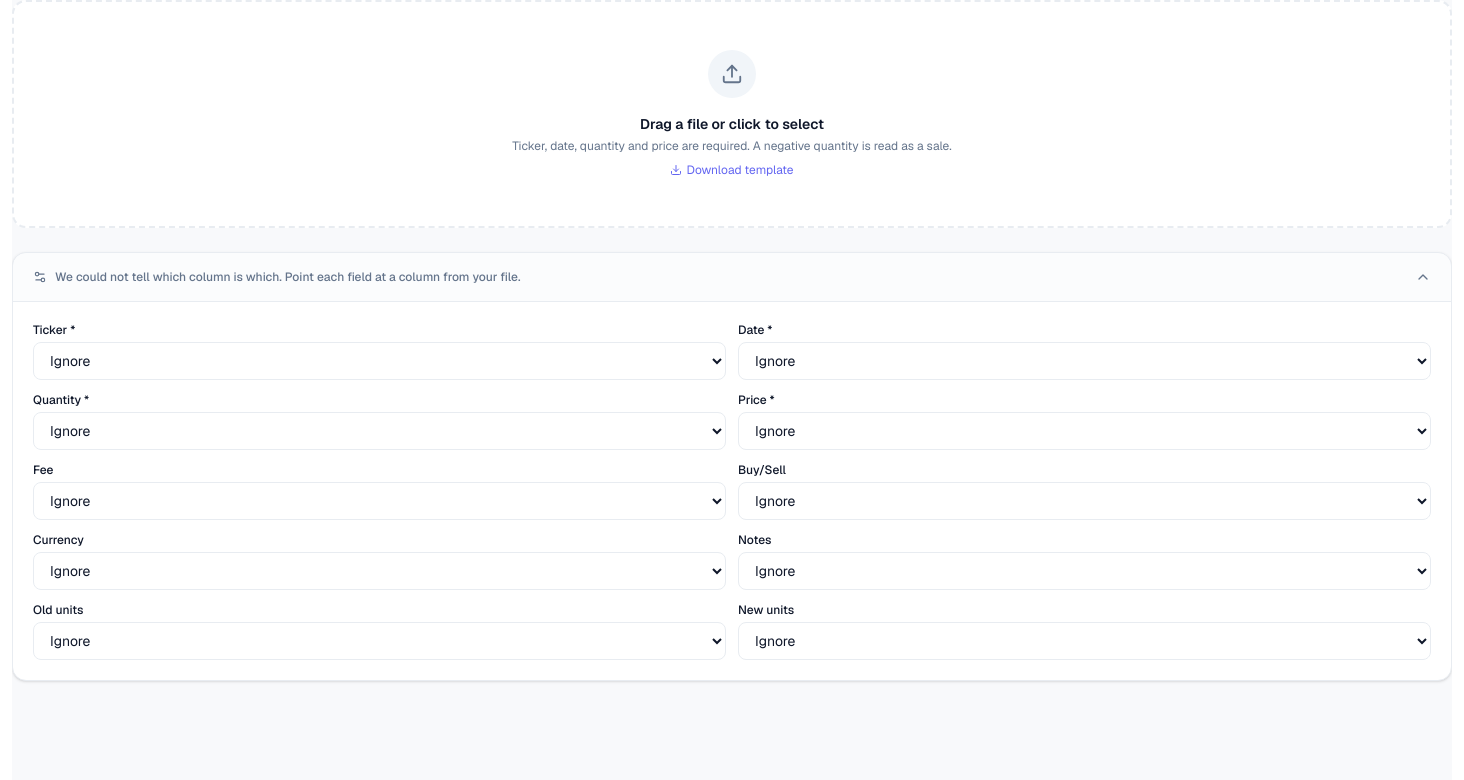
it: AssetImportPanel column mapping › keeps the column mapping reachable after a successful preview
Earlier steps of the test are not shown.
Expected: the element that starts with "Drag a file or click to select" is shown, [12,0,1452,228]
Expected: the text "We could not tell which column is which. Point each field at a column from your file." is shown, [55,269,521,285]
Select "Sym" in the dropdown labelled "Ticker *" at [380, 361], box [33,342,726,380]
Select "TDay" in the dropdown labelled "Date *" at [1084, 361], box [738,342,1431,380]
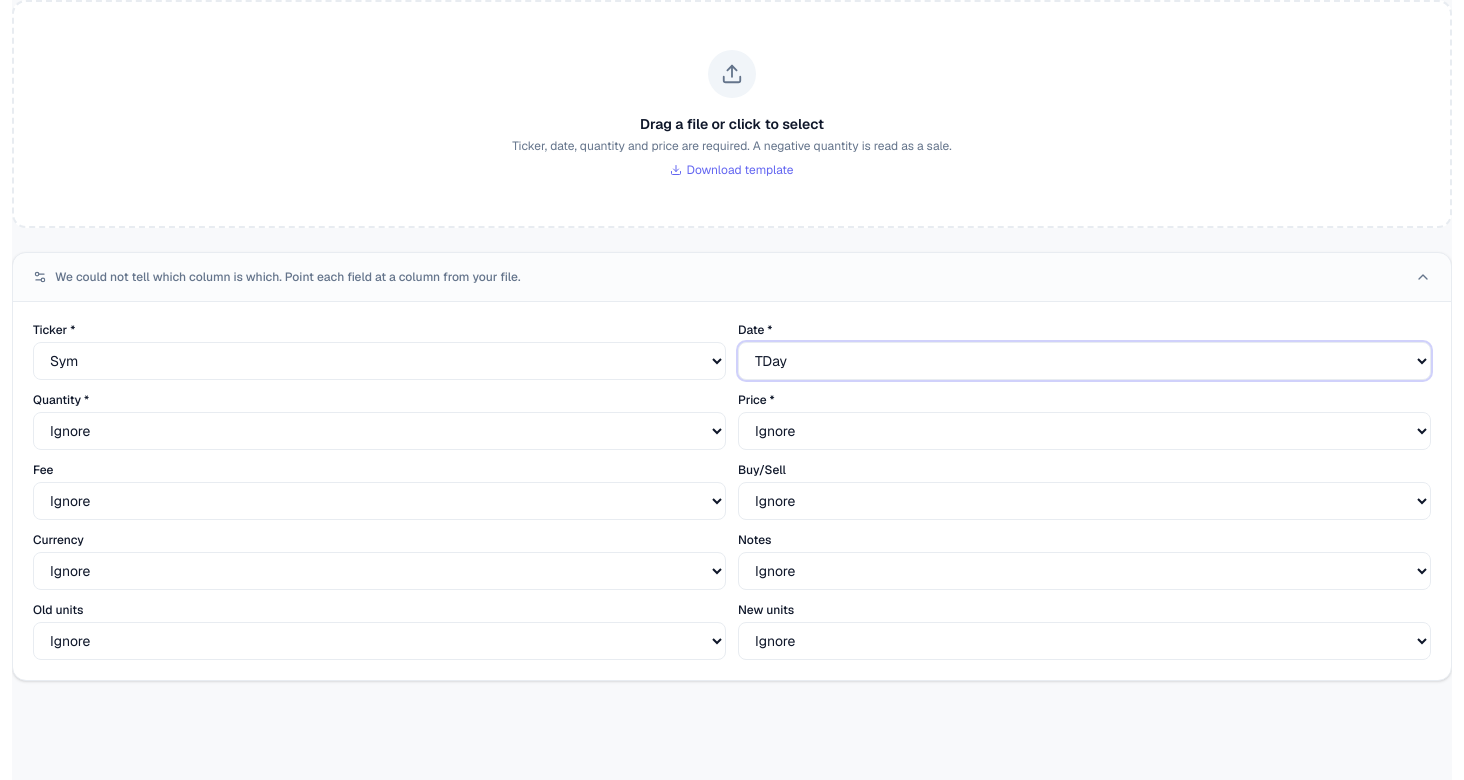
Select "Shrs" in the dropdown labelled "Quantity *" at [380, 431], box [33,412,726,450]
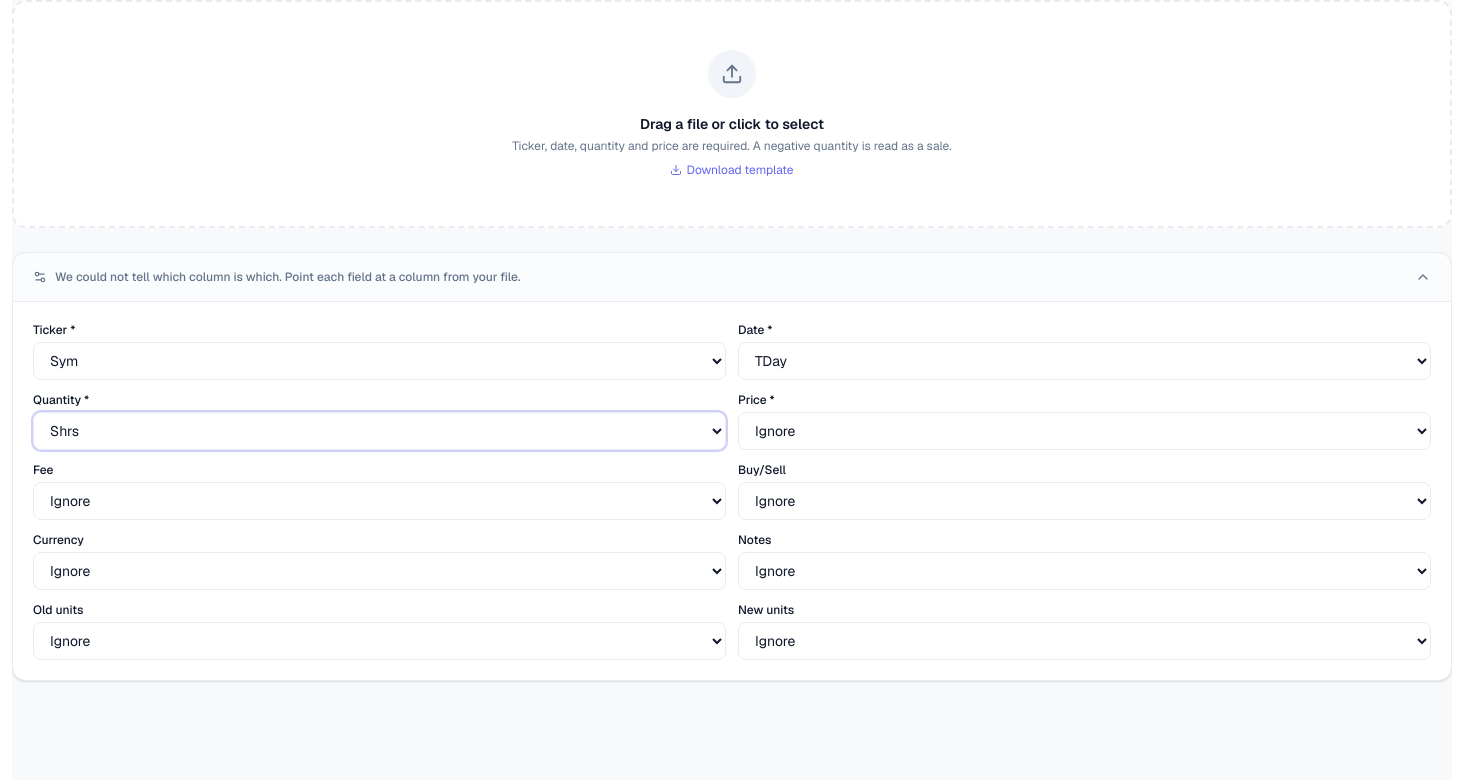
Select "Px" in the dropdown labelled "Price *" at [1084, 431], box [738,412,1431,450]
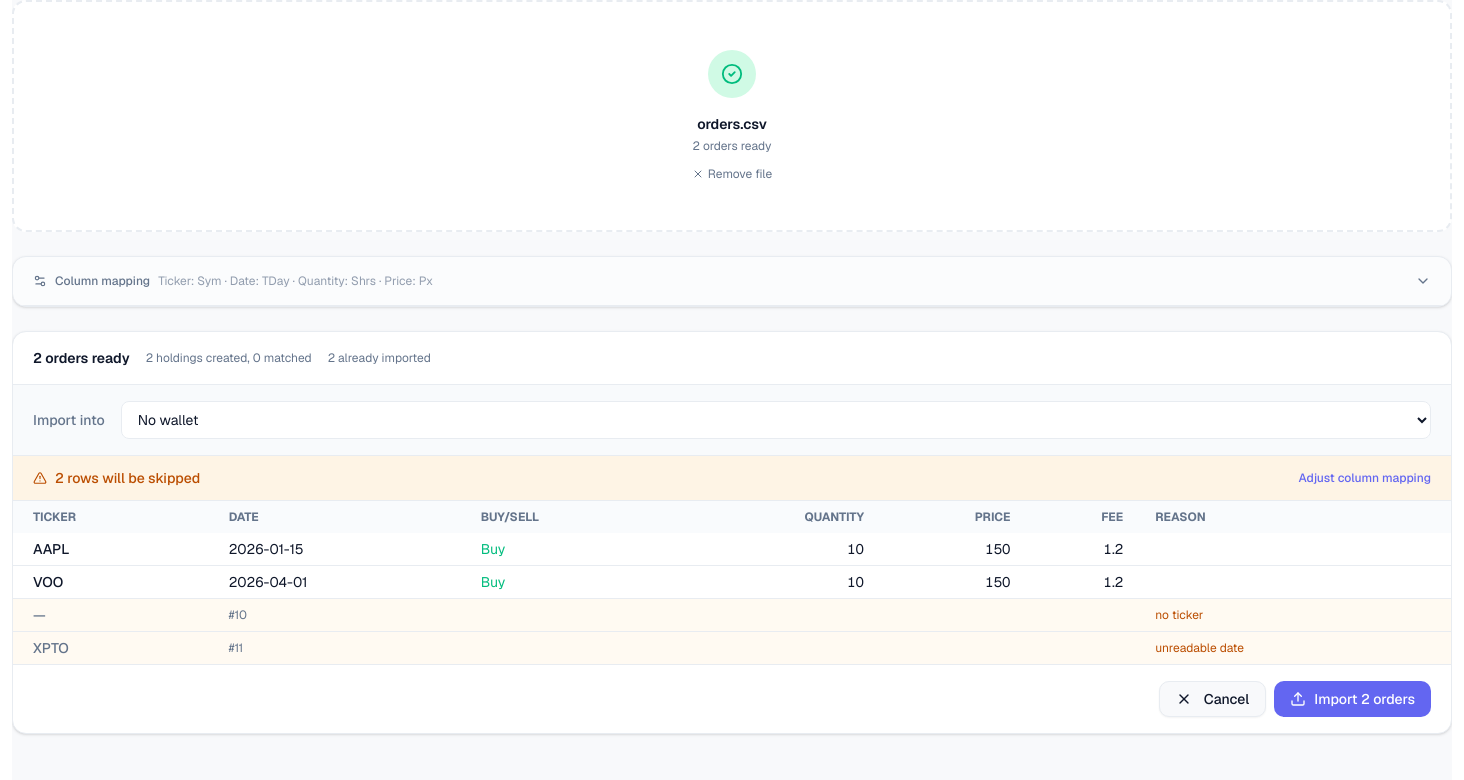
Expected: the button "Column mapping" shows "Ticker: Sym", [13,257,1451,306]
Expected: the button "Column mapping" shows "Date: TDay", [13,257,1451,306]
Expected: the button "Column mapping" shows "Quantity: Shrs", [13,257,1451,306]
Click the button "Adjust column mapping".
click(1365, 478)  # box [1298,470,1431,486]
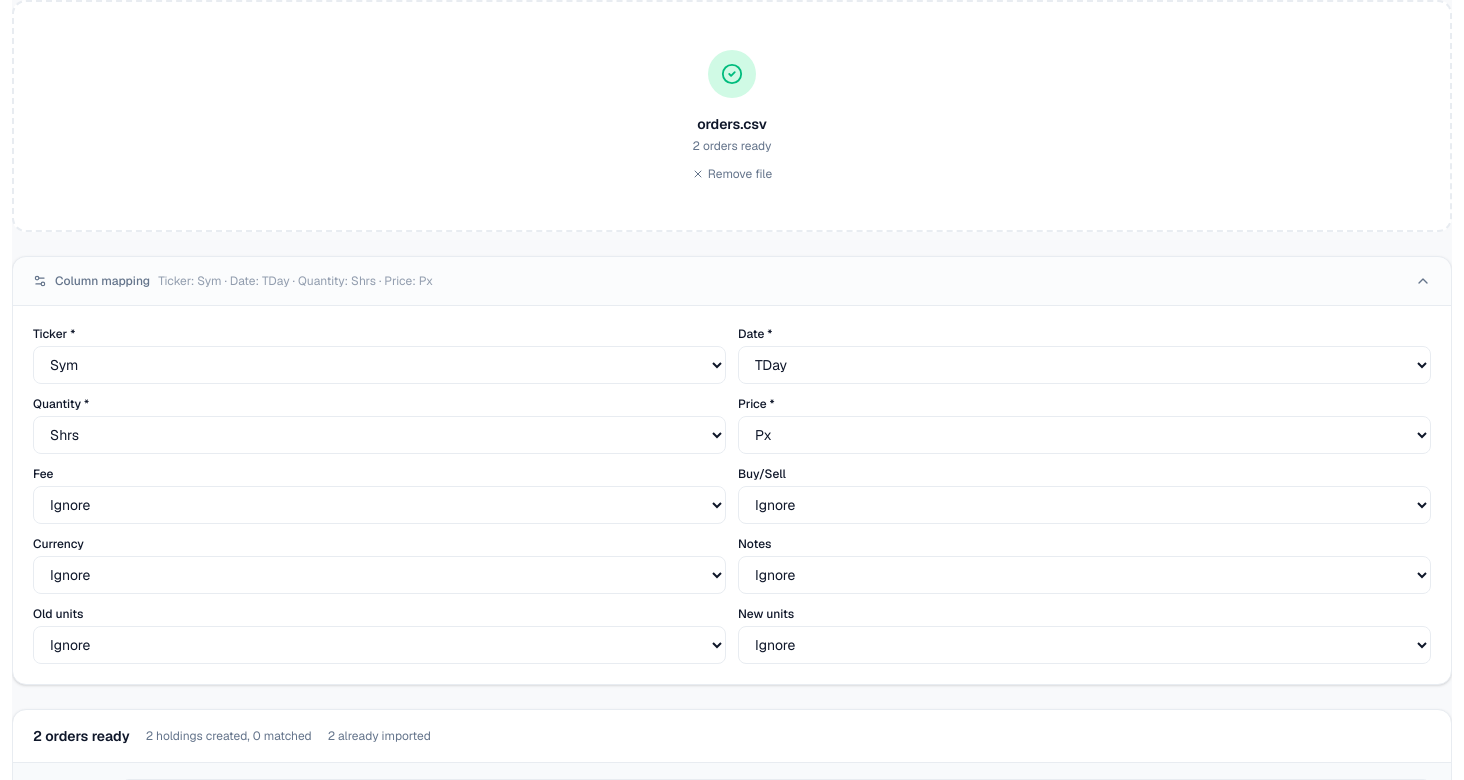
Expected: the dropdown labelled "Ticker *" is shown, [33,346,726,384]
Click the button "Column mapping".
click(103, 281)  # box [13,257,1451,306]
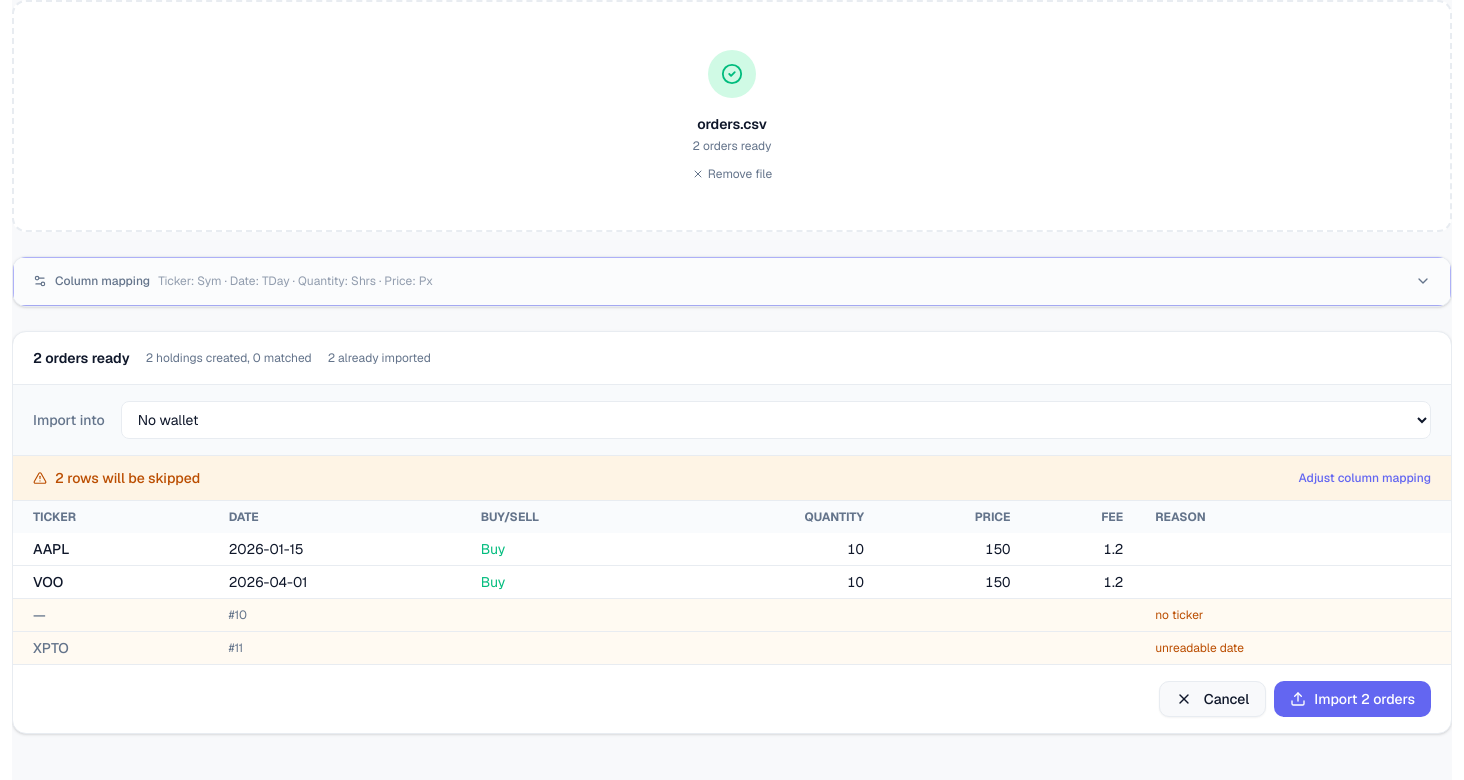
Click the button "Column mapping".
click(103, 281)  # box [13,257,1451,306]
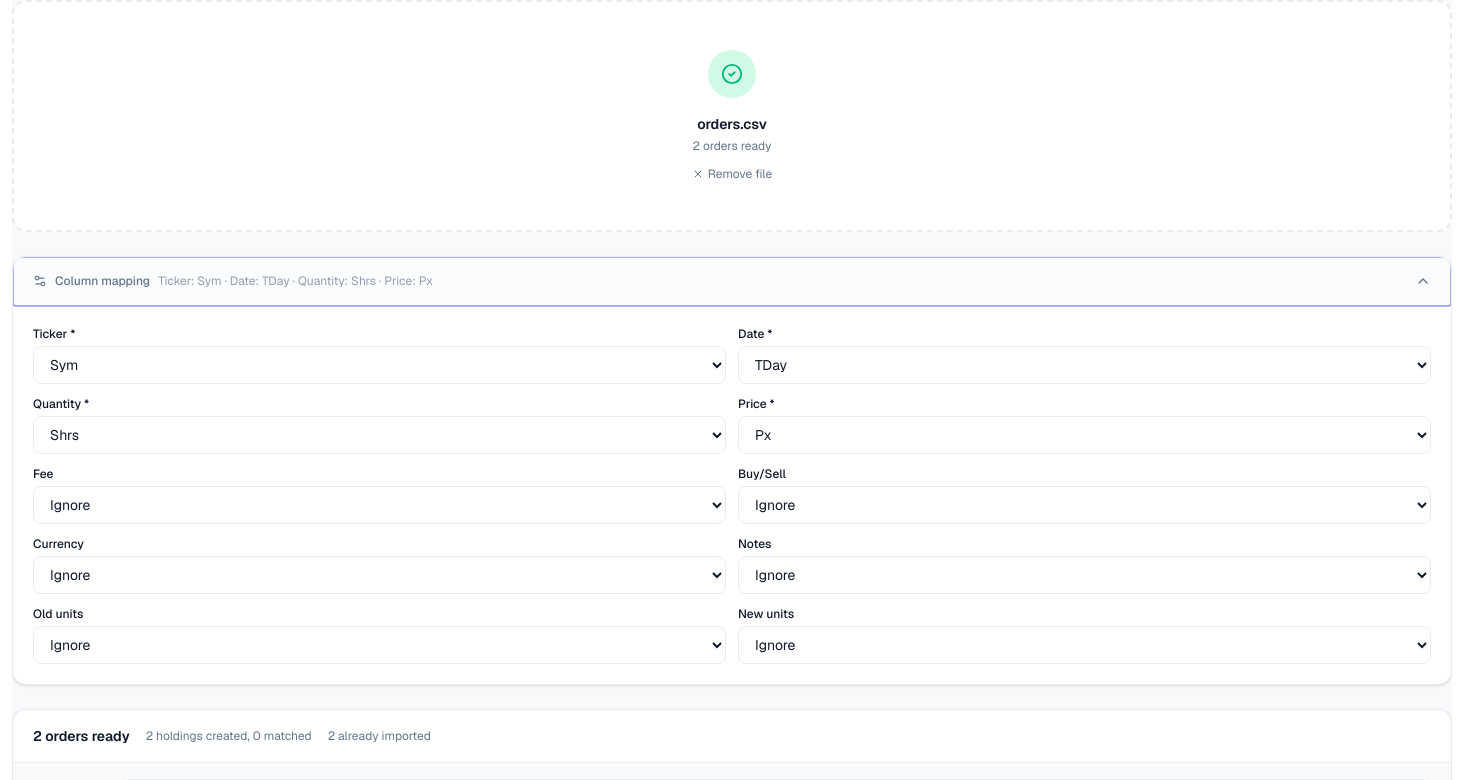
Expected: the dropdown labelled "Ticker *" is shown, [33,346,726,384]
